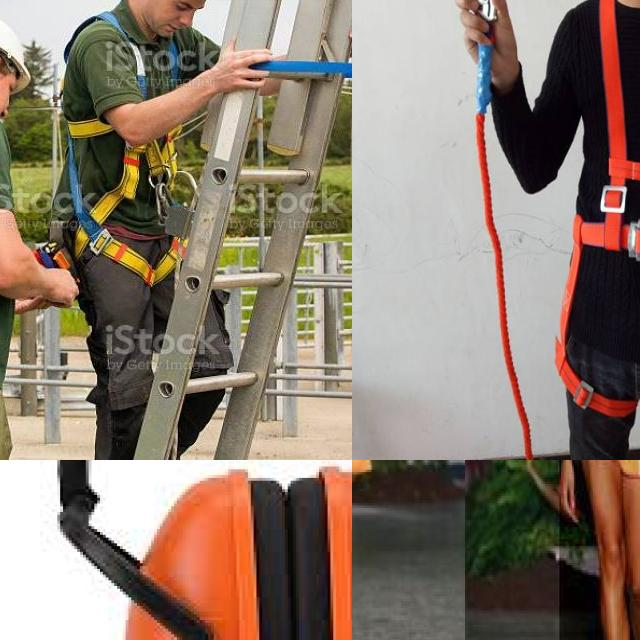Ear-protection: (117, 466, 287, 640), (287, 461, 352, 640)
Harness: (589, 0, 640, 422), (67, 119, 180, 285), (449, 0, 508, 45)
hand_noglove: (556, 461, 584, 526)
person: (559, 460, 640, 640)
